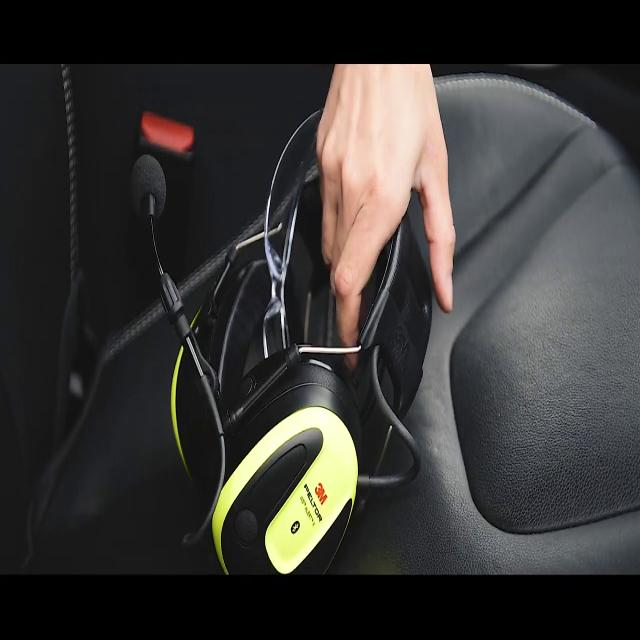earmuff: (208, 342, 370, 591), (155, 227, 283, 490)
